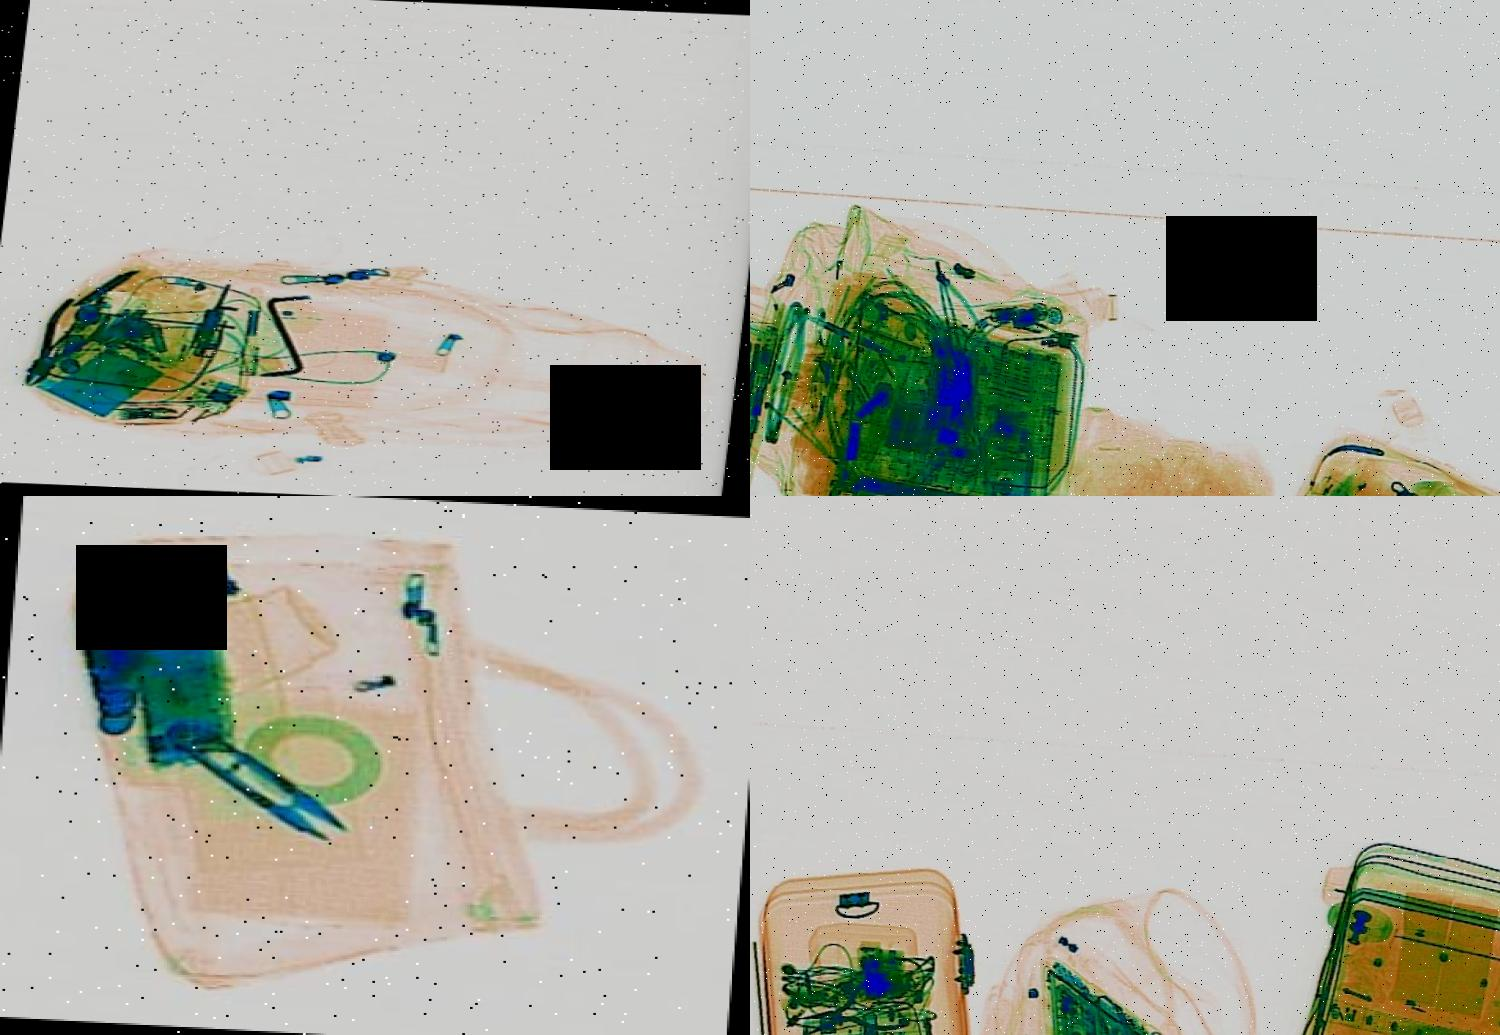Pliers: (0, 293, 121, 393), (785, 963, 919, 1035)
Scissors: (149, 704, 373, 847)
Wrench: (750, 331, 772, 481)
